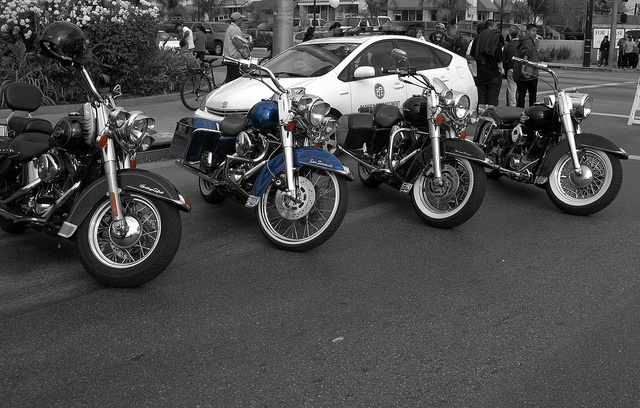non-vehicle: (0, 22, 195, 286), (170, 34, 356, 249), (336, 47, 497, 229), (472, 52, 630, 215)
